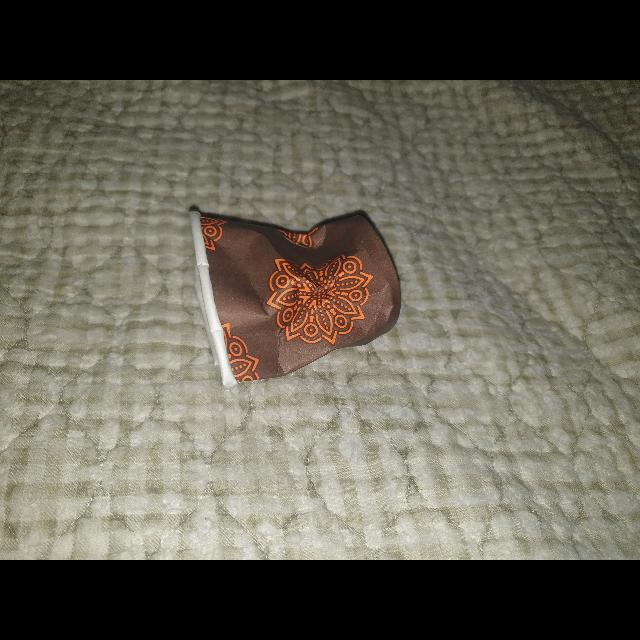trash: (175, 204, 405, 392)
